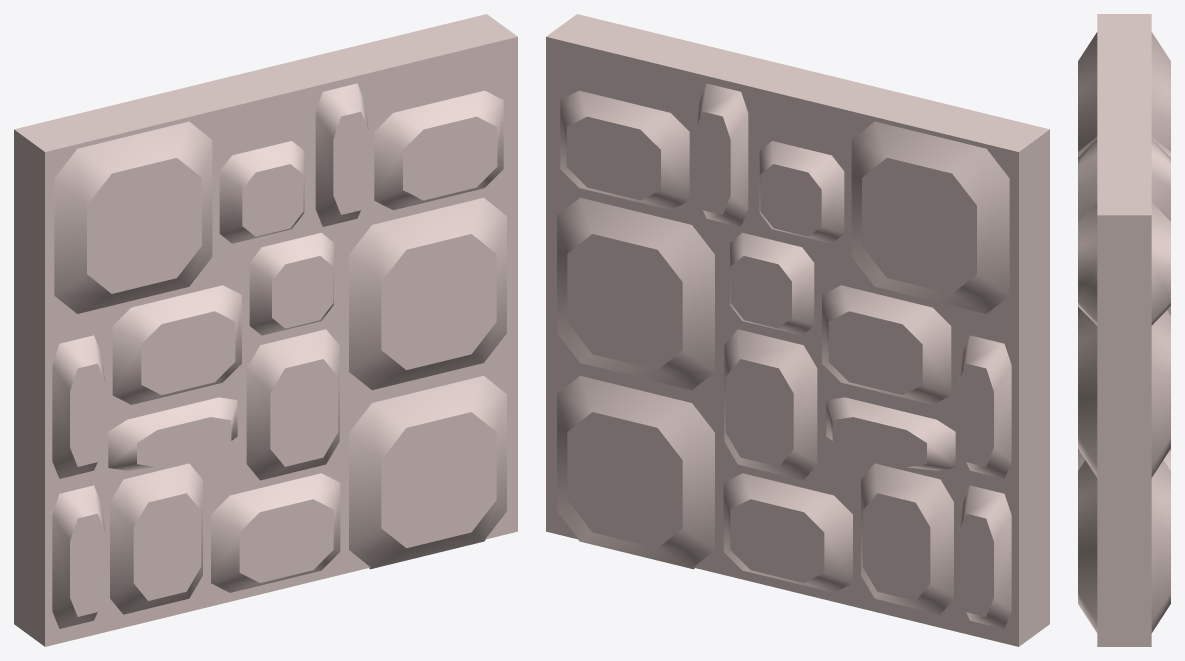
File: Wall.fbx
3 renders of one model, left to right at view 1: azimuth 30°, elevation 25°; view 2: azimuth 150°, elevation 25°; view 3: azimuth 270°, elevation 25°, orthographic. The views are drawn at different scales.
Visible parts, largest first — view 1: Wall; view 2: Wall; view 3: Wall.
Part boxes in pixels (x1,y1,x2,y2): Wall: [14, 14, 517, 646]; Wall: [546, 14, 1049, 646]; Wall: [1078, 14, 1170, 646].
Bounding box in the file's own units: 300 × 301 × 58.52.
